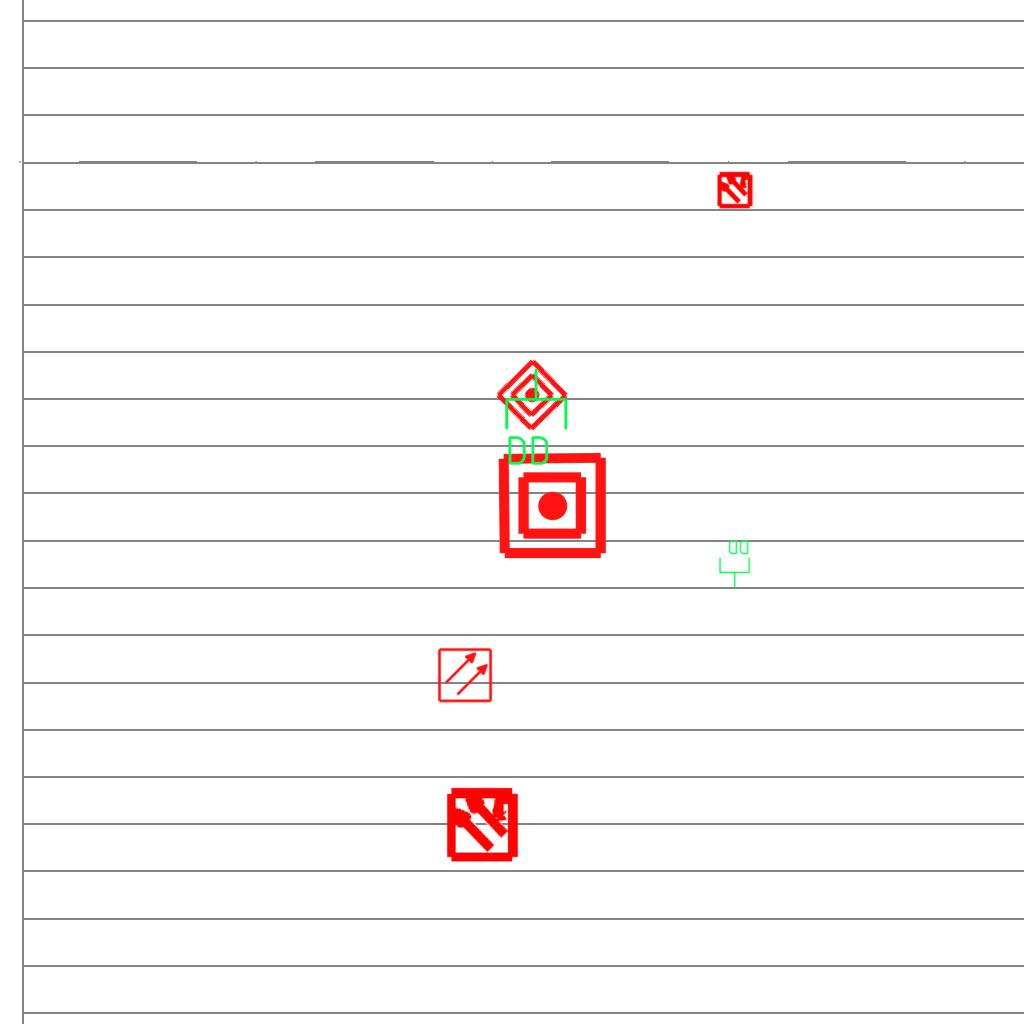Datenanschluss_zweifach: (501, 366, 570, 469), (718, 538, 752, 589)
NAM-Nichtautomatischer_Melder: (496, 449, 609, 562), (492, 355, 572, 435)
OT_Multisensormelder_(Kombination_RMO_WMD): (426, 766, 539, 879), (707, 161, 763, 217)
RMO_Rauchmelder_optischer: (437, 647, 493, 703)
